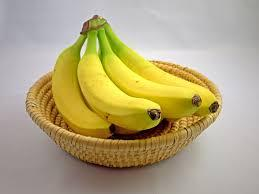banana: (51, 15, 220, 137)
